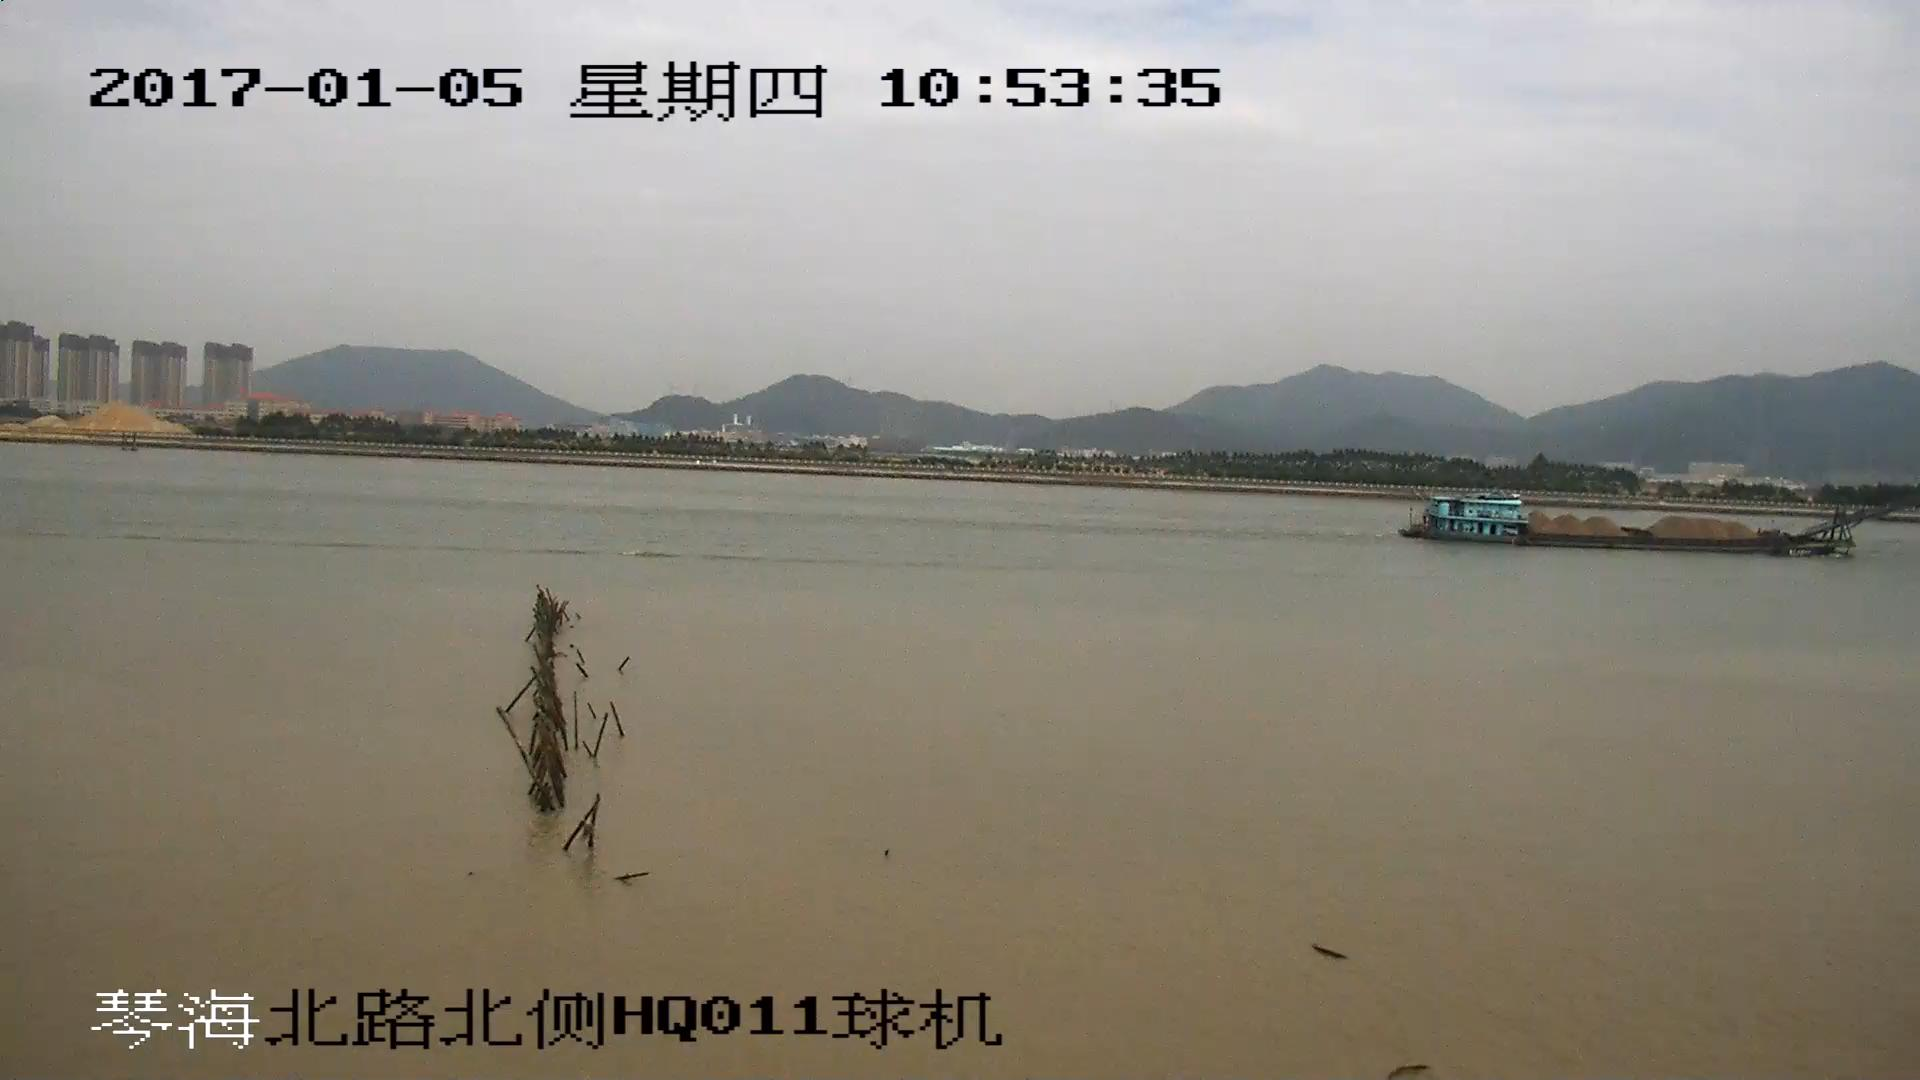ore carrier: (1408, 482, 1920, 556)
